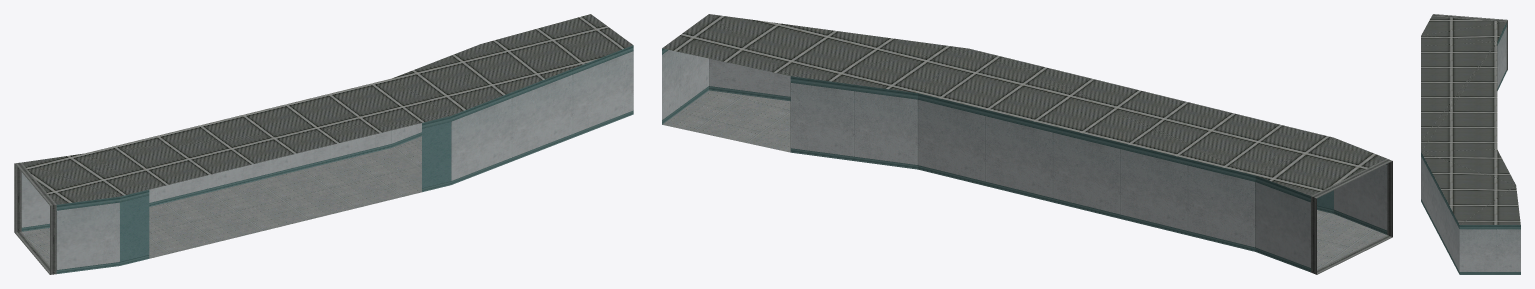
Rendered from mun_all_cloning_s01_r1_foyer_mesh_foyer.fbx.
3 views of the same model, side by side, from view 1: azimuth 30°, elevation 25°; view 2: azimuth 150°, elevation 25°; view 3: azimuth 270°, elevation 25° (orthographic). The views are drawn at different scales.
Visible parts, largest first — view 1: mesh_node; view 2: mesh_node; view 3: mesh_node.
Boxes of the visible parts, <box> form: mesh_node: <box>14,14,633,274</box>; mesh_node: <box>662,14,1392,274</box>; mesh_node: <box>1421,14,1520,274</box>.
Bounding box in the file's own units: 26.51 × 2.92 × 5.29.
